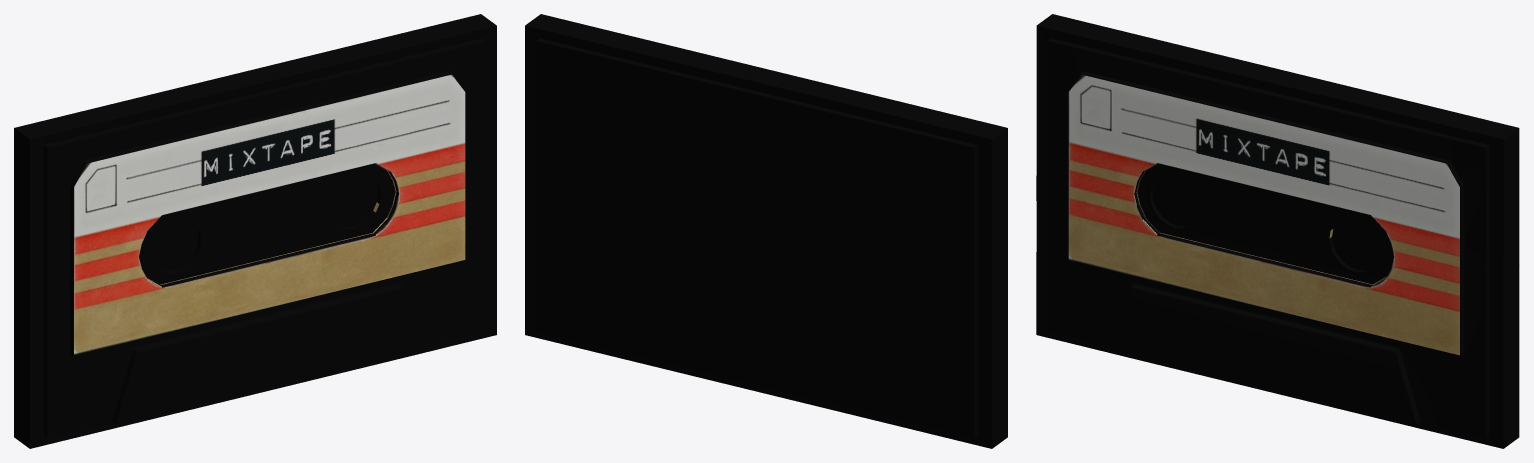
Rendered from cassette.fbx.
The picture shows the model from 3 angles, left to right: view 1: azimuth 30°, elevation 25°; view 2: azimuth 150°, elevation 25°; view 3: azimuth 330°, elevation 25°; orthographic projection.
Parts seen in each view (by area): view 1: mixtape; view 2: mixtape; view 3: mixtape.
Boxes of the visible parts, x1,y1,x2,y2 form: mixtape: [14, 14, 496, 448]; mixtape: [525, 14, 1007, 448]; mixtape: [1036, 14, 1519, 448].
Bounding box in the file's own units: 6.48 × 4.1 × 0.628.
